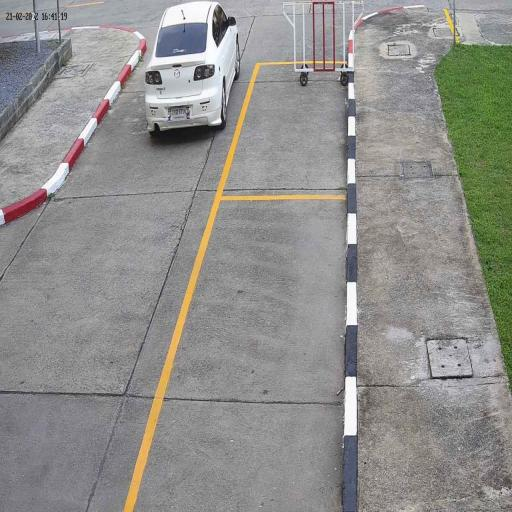car: (144, 0, 241, 140)
